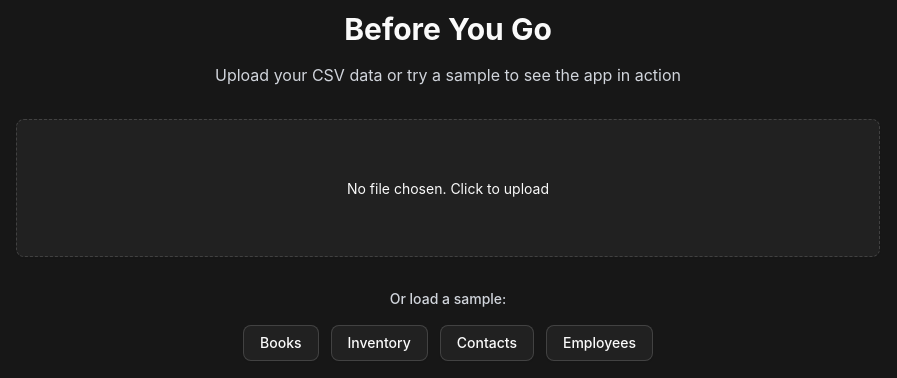
DataHyderator › loads a sample, stores records, and shows success stats
Click the button "Books" at (281, 343), box [243,325,318,361]
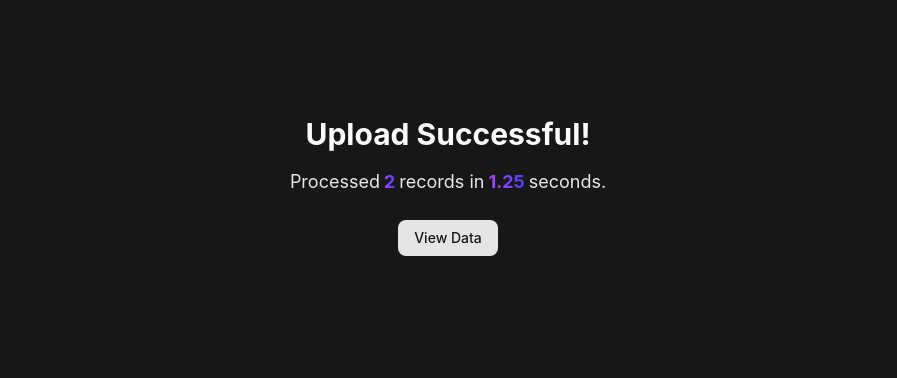
Now the heading "Upload Successful!" is shown, box [305,116,590,152]
Now the text "2" is shown, box [384,168,395,196]
Now the text "1.25" is shown, box [488,168,525,196]
